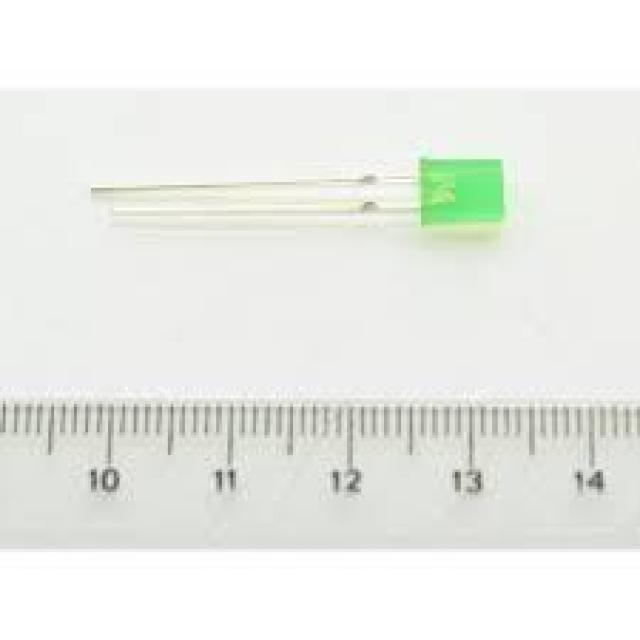Led: (420, 159, 501, 224)
